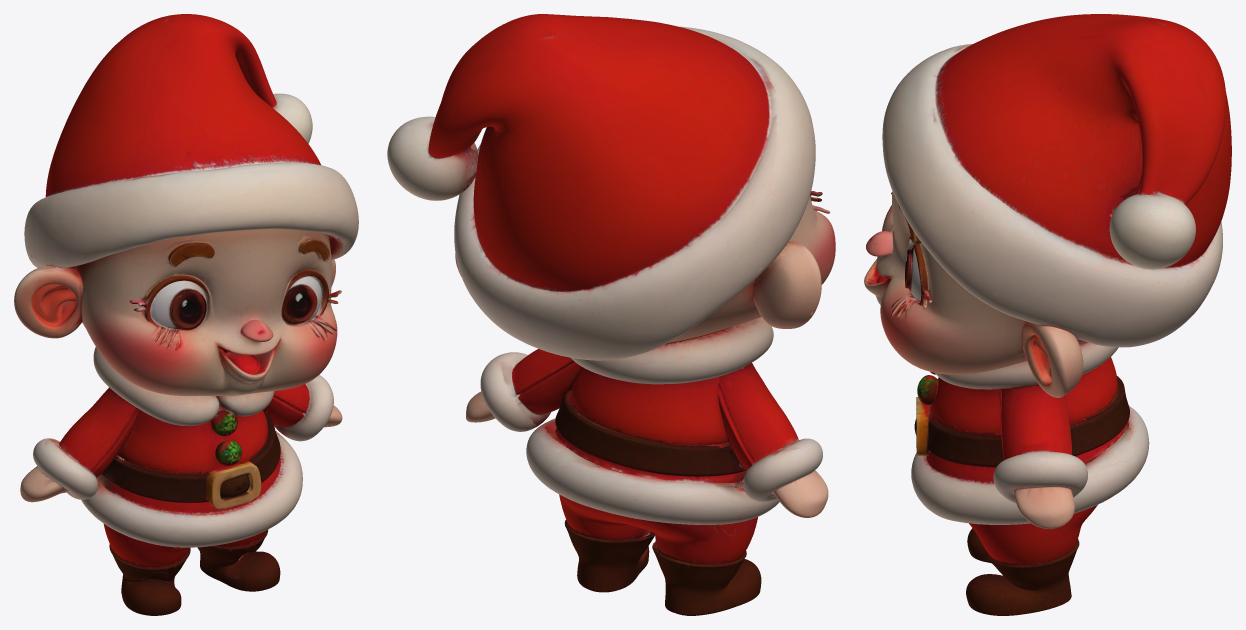
Rendered from be-noel.glb.
3 renders of one model, left to right at view 1: azimuth 30°, elevation 25°; view 2: azimuth 150°, elevation 25°; view 3: azimuth 270°, elevation 25°, orthographic. The views are drawn at different scales.
Parts seen in each view (by area): view 1: texture_pbr_v128; view 2: texture_pbr_v128; view 3: texture_pbr_v128.
Part boxes in pixels (x1,y1,x2,y2): texture_pbr_v128: (14,14,358,615); texture_pbr_v128: (387,14,835,615); texture_pbr_v128: (864,14,1231,615).
Bounding box in the file's own units: 0.7538 × 1.12 × 0.6457.
Materials: 1 (1 with a texture image).
